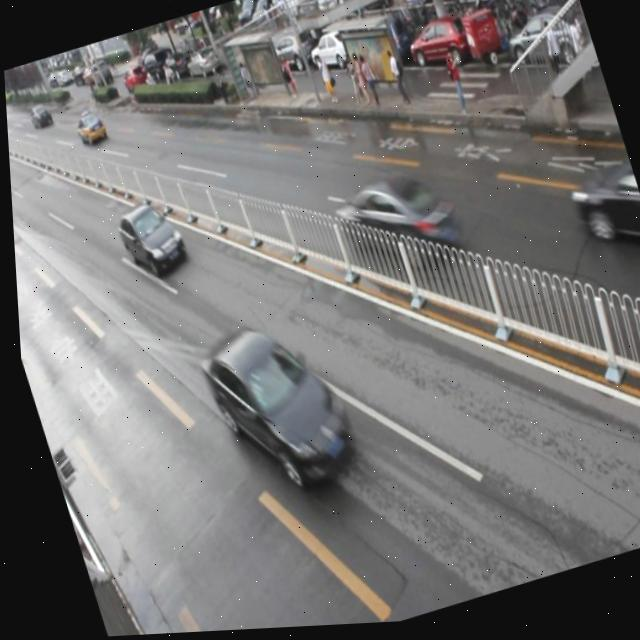car: (187, 308, 356, 507), (327, 165, 463, 292), (556, 147, 640, 277), (109, 194, 187, 284), (71, 107, 107, 149)
